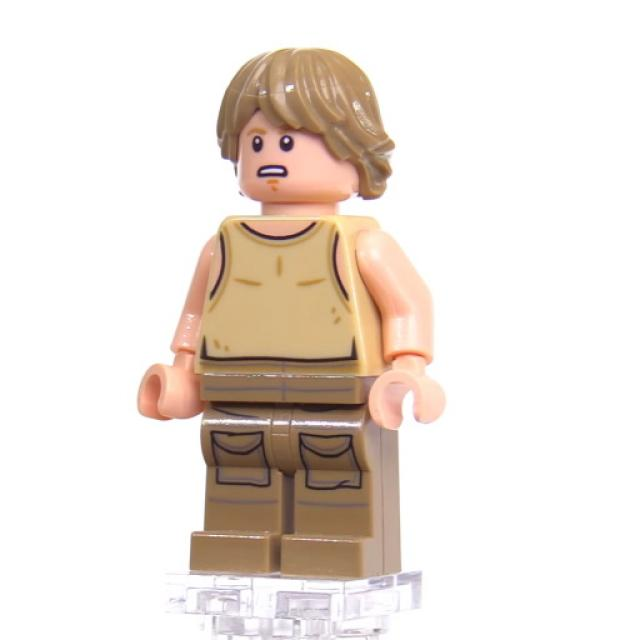Lego-Minifigures: (117, 35, 470, 602)
